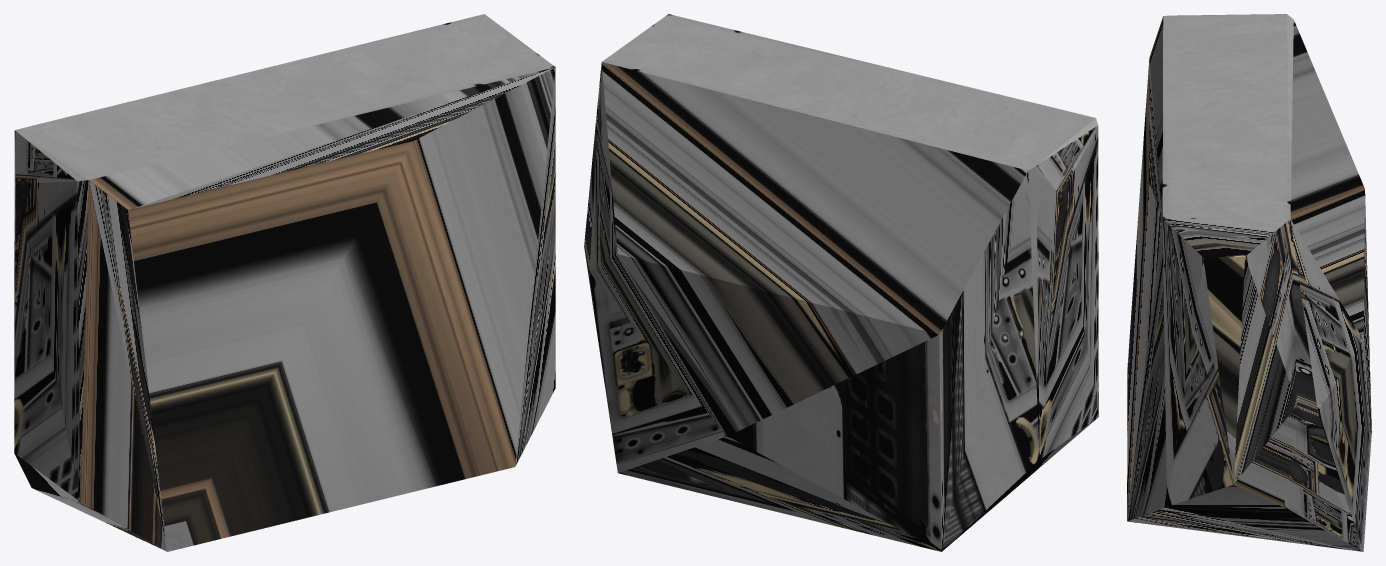
File: exterior_aircon_unit_phys.fbx
The picture shows the model from 3 angles, left to right: view 1: azimuth 30°, elevation 25°; view 2: azimuth 150°, elevation 25°; view 3: azimuth 270°, elevation 25°; orthographic projection. The views are drawn at different scales.
Visible parts, largest first — view 1: exterior_aircon_unit.006; view 2: exterior_aircon_unit.006; view 3: exterior_aircon_unit.006.
Boxes of the visible parts, x1,y1,x2,y2 form: exterior_aircon_unit.006: [14, 14, 555, 551]; exterior_aircon_unit.006: [584, 14, 1098, 551]; exterior_aircon_unit.006: [1127, 14, 1371, 551].
Bounding box in the file's own units: 31.54 × 14.81 × 23.97.
